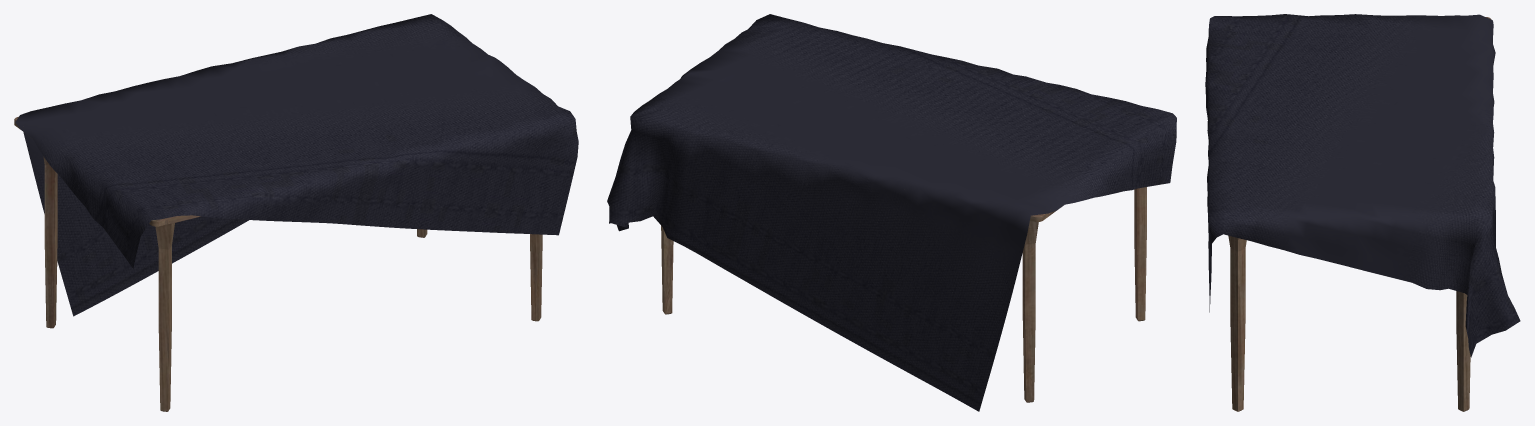
3 renders of one model, left to right at view 1: azimuth 30°, elevation 25°; view 2: azimuth 150°, elevation 25°; view 3: azimuth 270°, elevation 25°, orthographic. The views are drawn at different scales.
Parts seen in each view (by area): view 1: Table (×2); view 2: Table (×2); view 3: Table (×2).
Part boxes in pixels (bbox=[...]): Table (×2): bbox=[14, 14, 578, 411]; Table (×2): bbox=[607, 14, 1176, 411]; Table (×2): bbox=[1205, 14, 1520, 411].
Bounding box in the file's own units: 2 × 0.8942 × 1.19.
2 materials, 2 textured.
